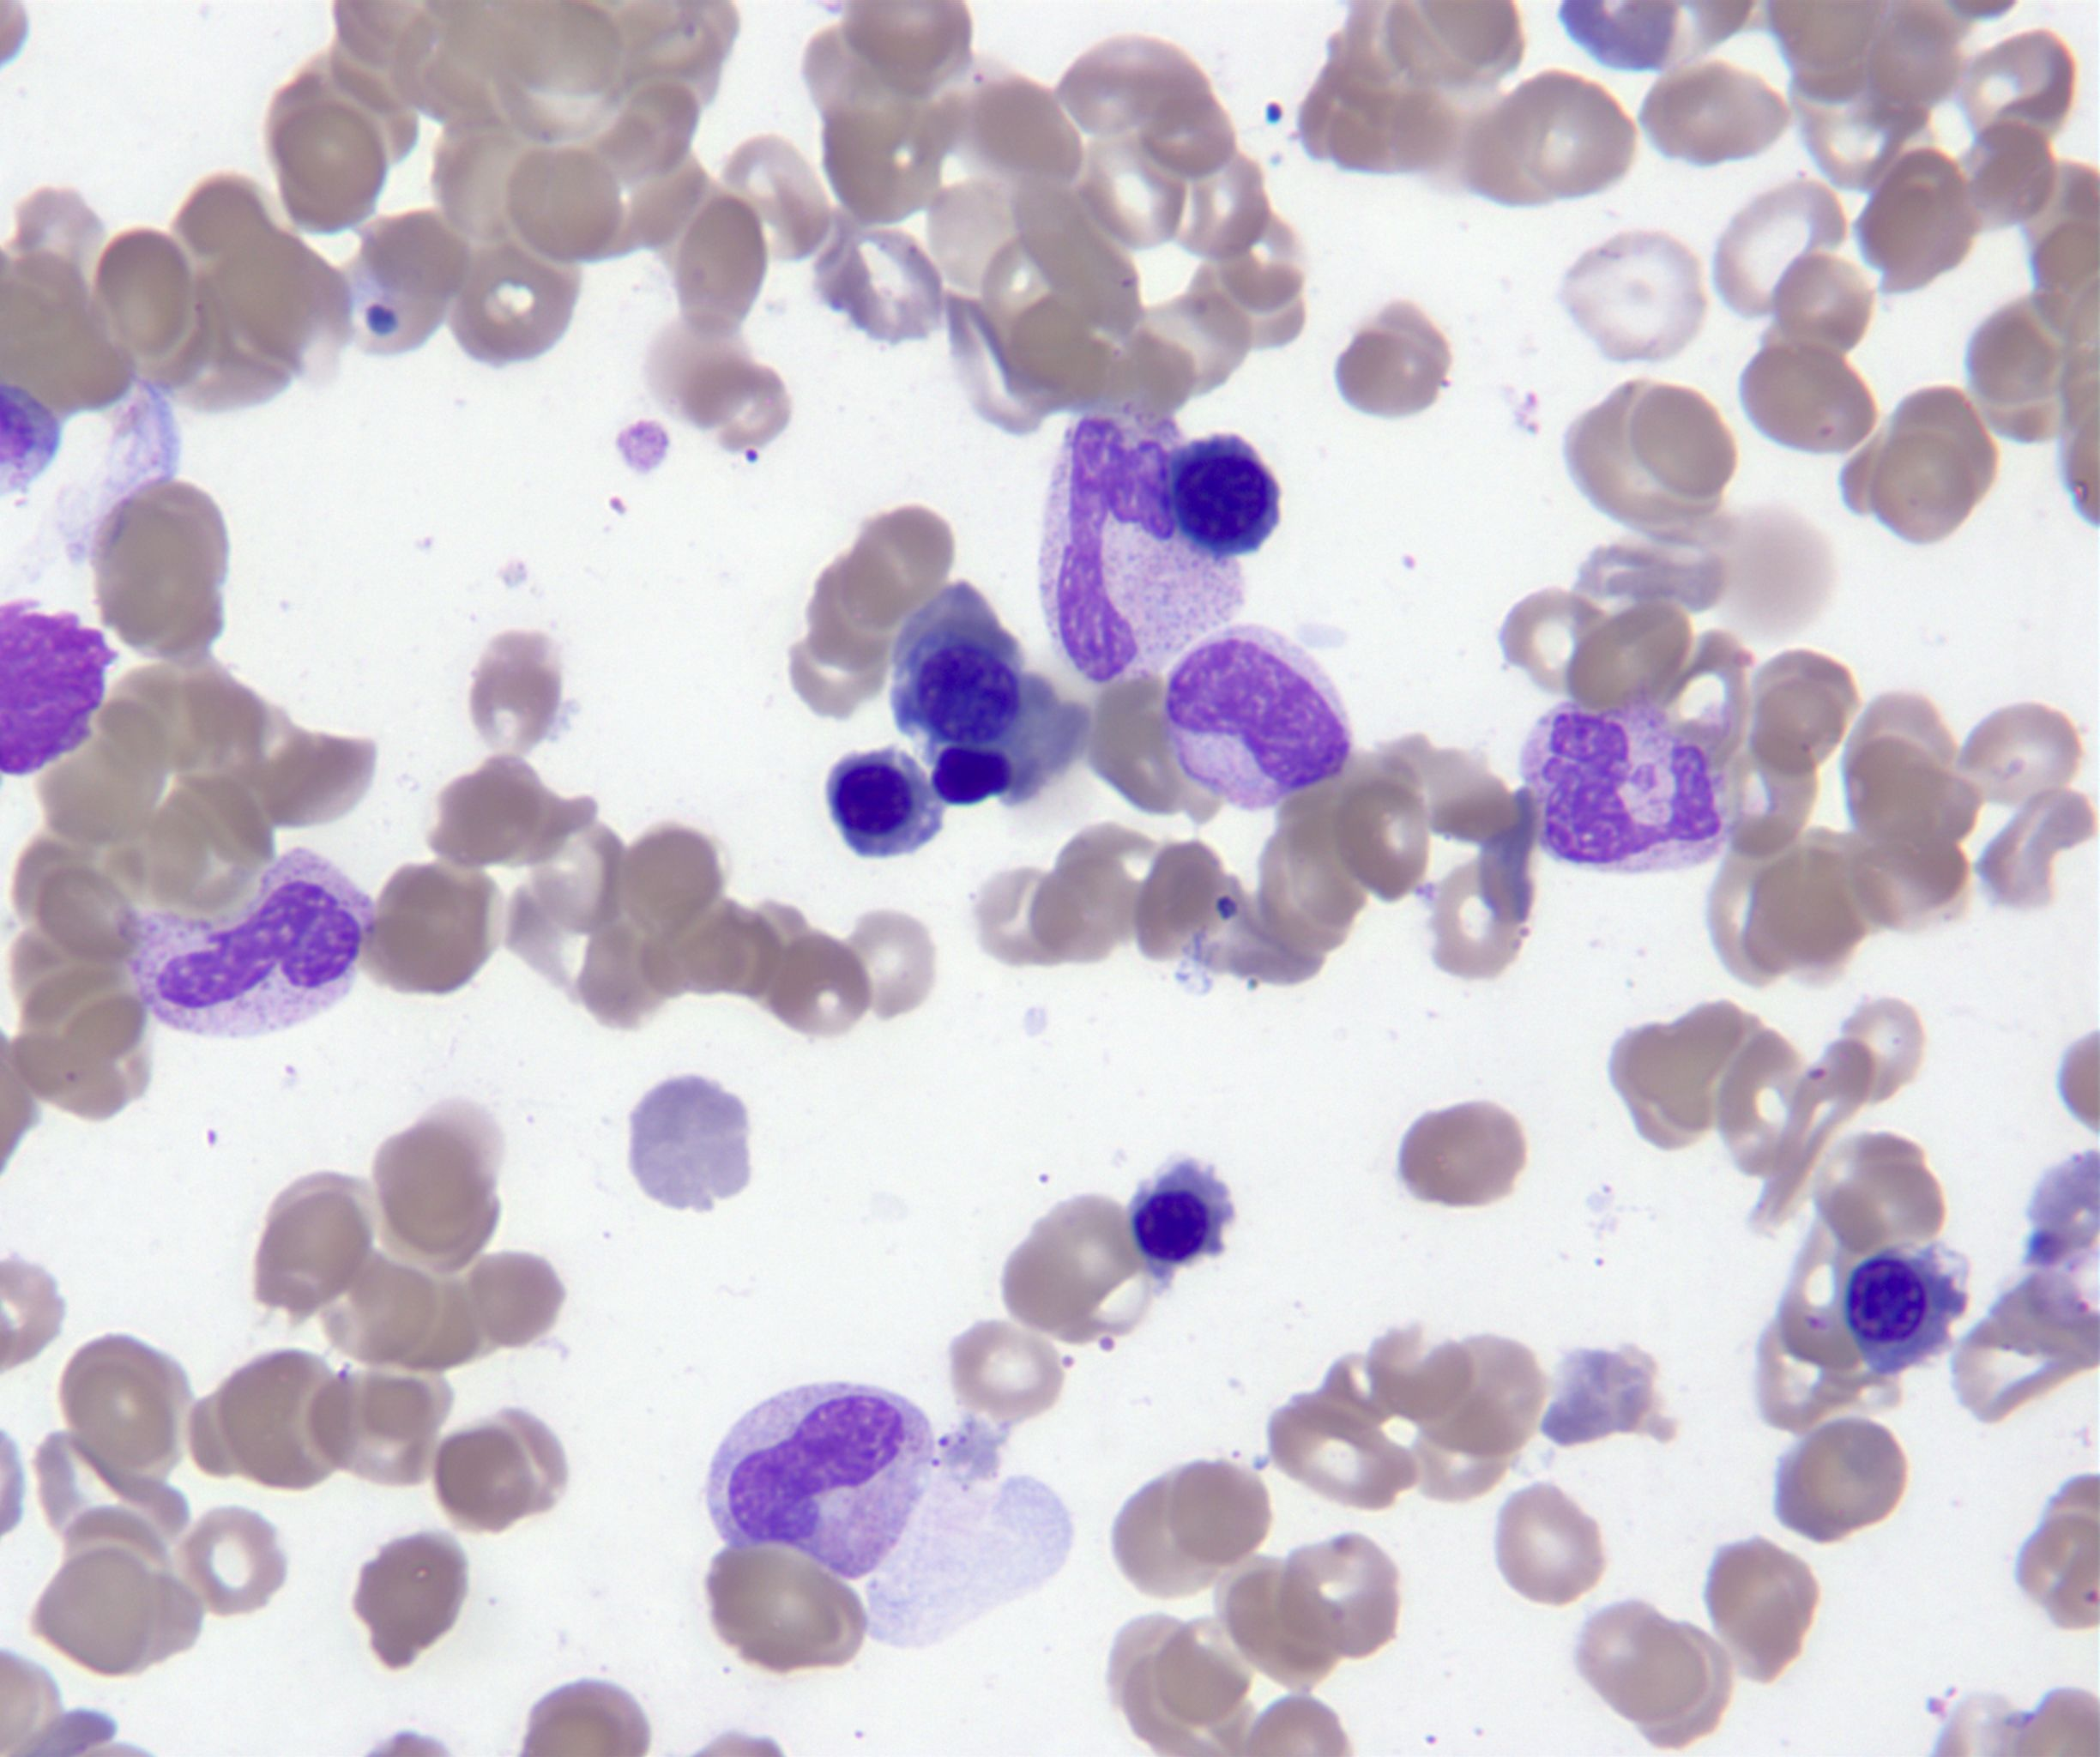23: (888, 574, 1029, 749), (1162, 431, 1282, 558)
24: (931, 673, 1092, 811), (1842, 1242, 1966, 1375), (1130, 1153, 1238, 1284), (828, 750, 944, 858)
4: (705, 1382, 930, 1579), (1169, 621, 1353, 815)
5: (1040, 412, 1249, 689), (117, 848, 373, 1038)
6: (1521, 696, 1732, 874)
x: (2, 598, 119, 773)
